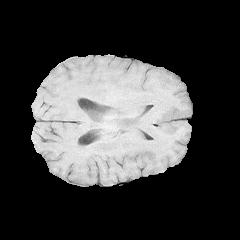glioma: (92, 76, 169, 134)
